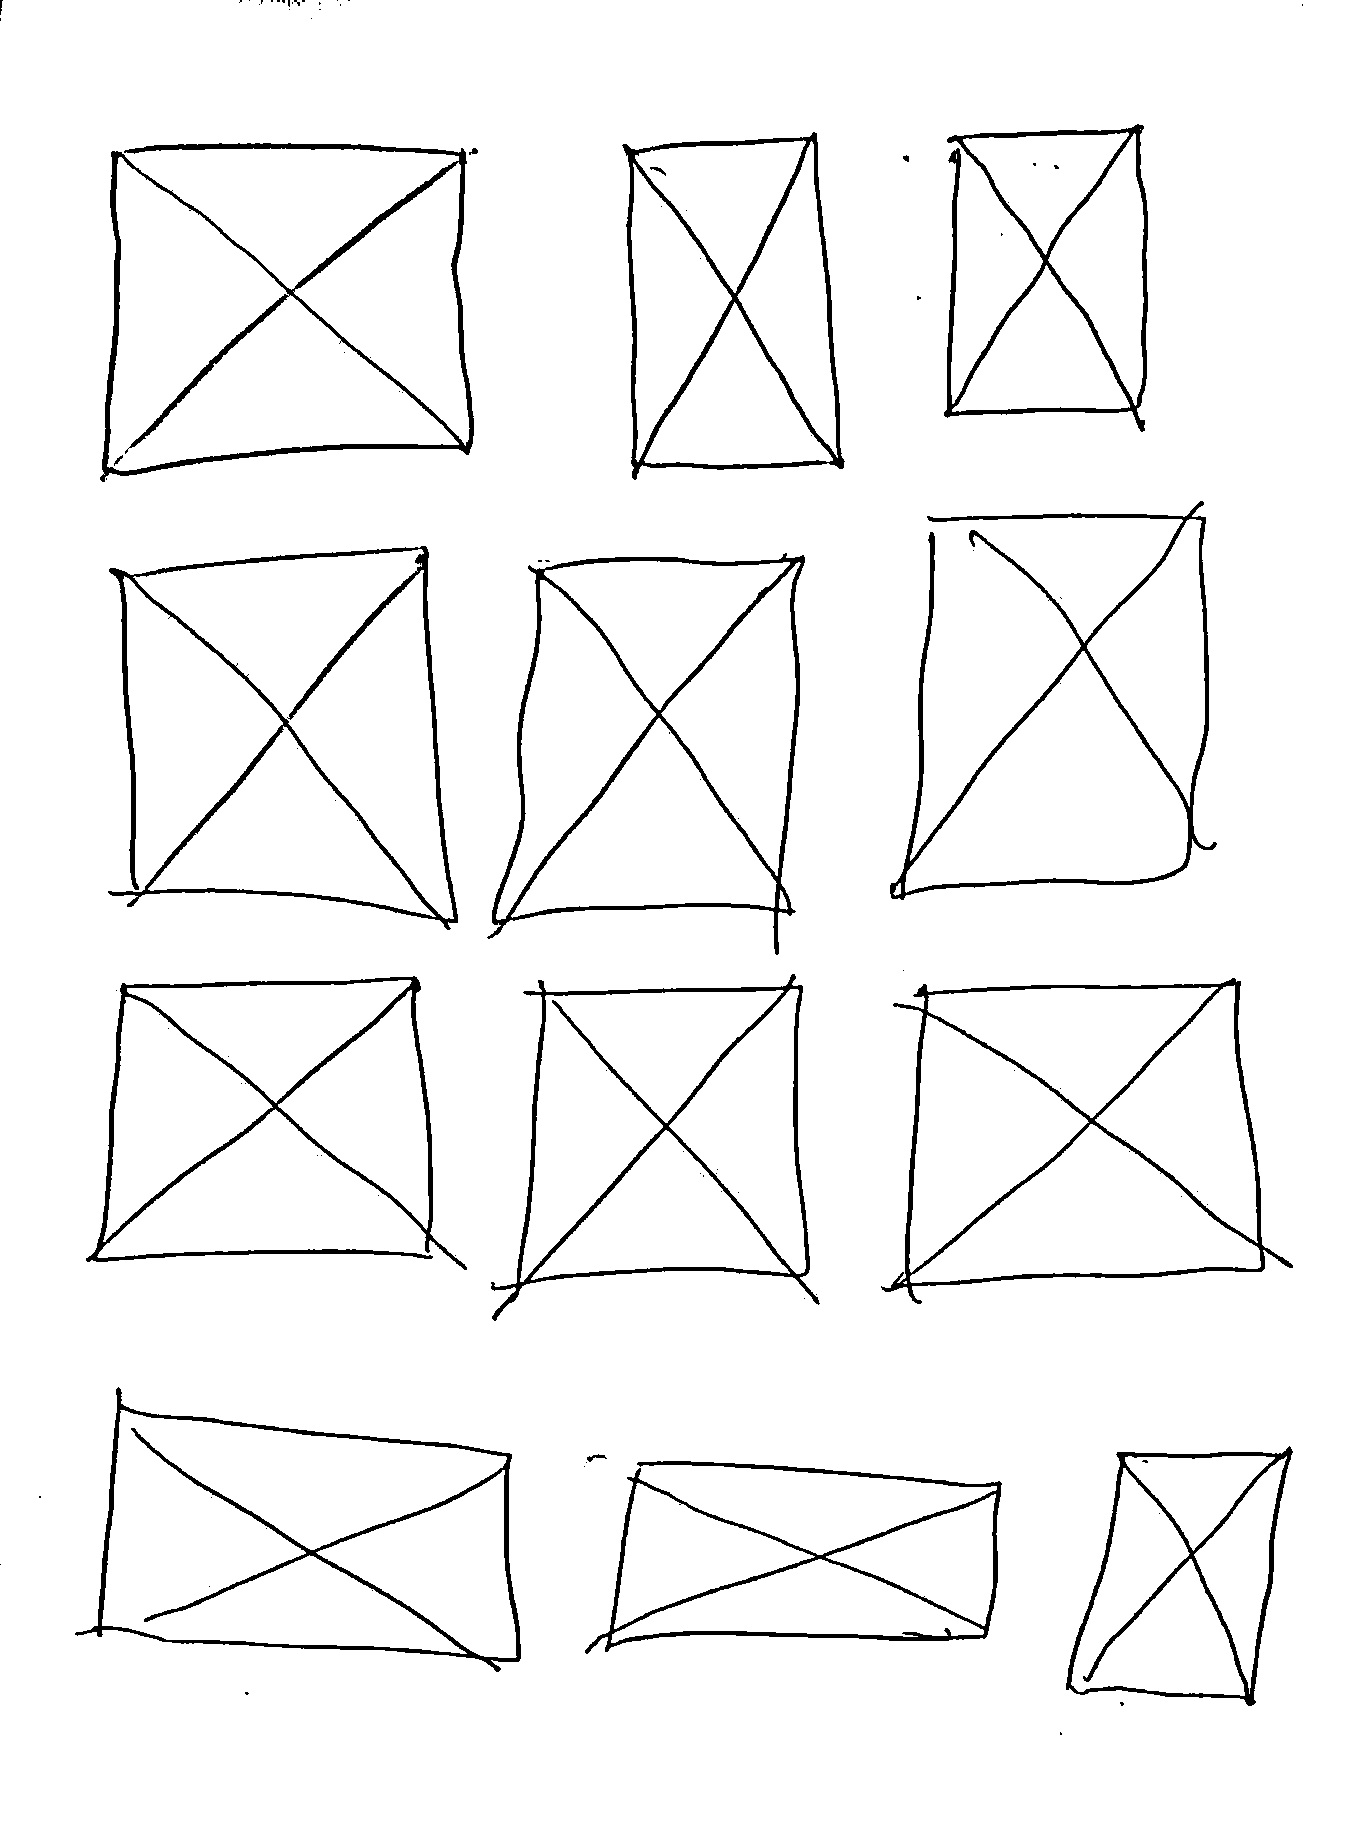Image: (109, 541, 461, 930), (90, 133, 479, 482), (888, 496, 1220, 901), (887, 977, 1291, 1303), (486, 552, 811, 954), (88, 1396, 525, 1670), (489, 977, 819, 1310), (83, 976, 438, 1263), (585, 1453, 1009, 1656), (617, 131, 851, 479), (1055, 1439, 1300, 1710), (941, 121, 1154, 430)
